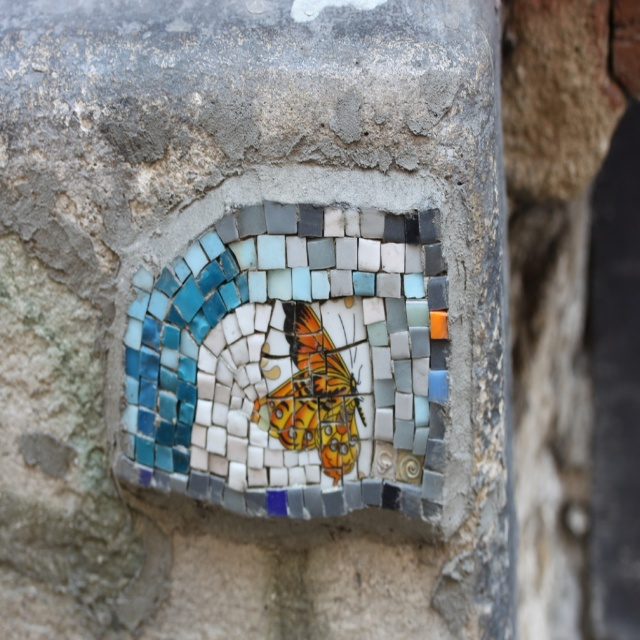Butterfly: (251, 301, 370, 482)
